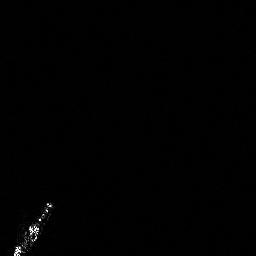ship: (10, 197, 59, 256)
